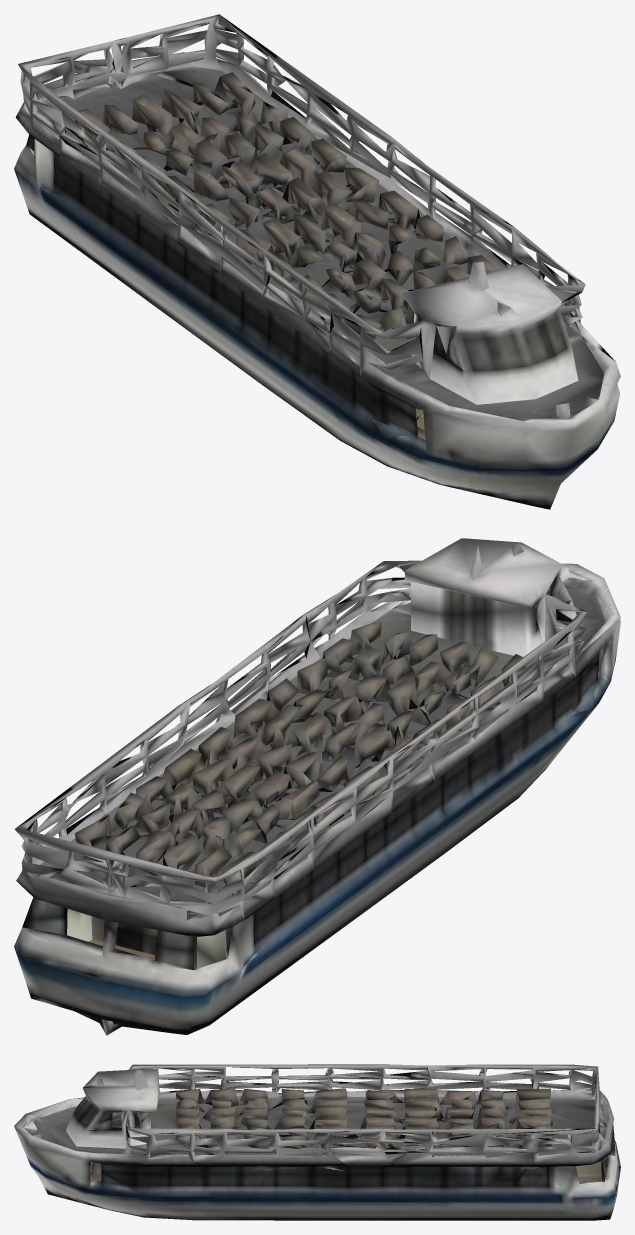
Rendered from tour_boat.glb.
The picture shows the model from 3 angles, top to bottom: view 1: azimuth 30°, elevation 25°; view 2: azimuth 150°, elevation 25°; view 3: azimuth 270°, elevation 25°; orthographic projection. The views are drawn at different scales.
Visible parts, largest first — view 1: tour_boat; view 2: tour_boat; view 3: tour_boat.
Part boxes in pixels (left/top/right/bottom): tour_boat: left=14, top=14, right=620, bottom=509; tour_boat: left=14, top=538, right=620, bottom=1035; tour_boat: left=14, top=1064, right=620, bottom=1220.
Size of the model in its own units: 6.54 by 6.29 by 25.13.
1 material, 1 textured.
